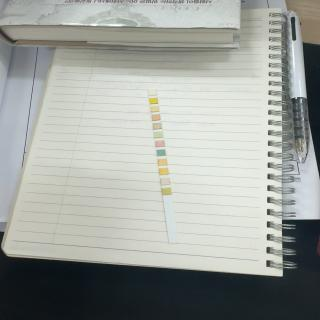mark: (158, 159, 167, 165), (150, 98, 158, 104), (150, 106, 158, 112), (152, 114, 160, 120), (154, 123, 162, 129), (154, 132, 162, 138), (157, 150, 165, 156), (160, 168, 168, 174), (161, 178, 169, 184), (162, 188, 170, 194), (156, 140, 163, 146), (148, 90, 156, 95)
